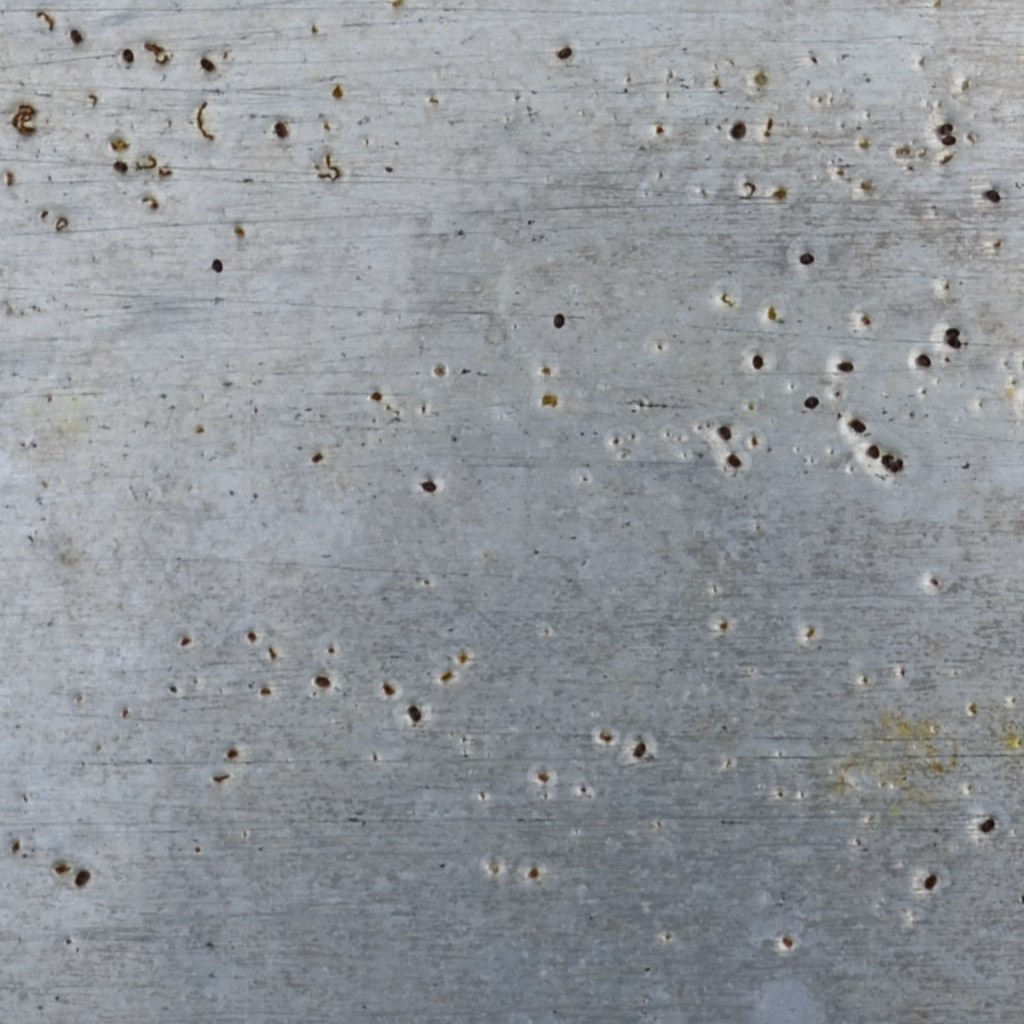varroa: (309, 665, 332, 689), (979, 814, 998, 838), (982, 185, 1002, 207), (417, 477, 439, 497), (797, 249, 818, 269), (725, 450, 745, 471), (923, 869, 939, 894), (554, 43, 574, 63), (629, 736, 648, 756), (198, 55, 216, 76), (716, 421, 733, 443), (751, 350, 767, 373), (550, 307, 566, 330), (802, 395, 822, 413), (73, 866, 90, 887), (729, 120, 746, 140), (68, 25, 85, 45), (207, 256, 225, 274), (914, 352, 934, 368), (406, 703, 421, 724), (945, 334, 962, 352), (849, 417, 868, 433), (835, 359, 855, 373), (938, 116, 954, 133), (943, 324, 961, 339), (865, 440, 880, 458), (940, 133, 958, 147)
